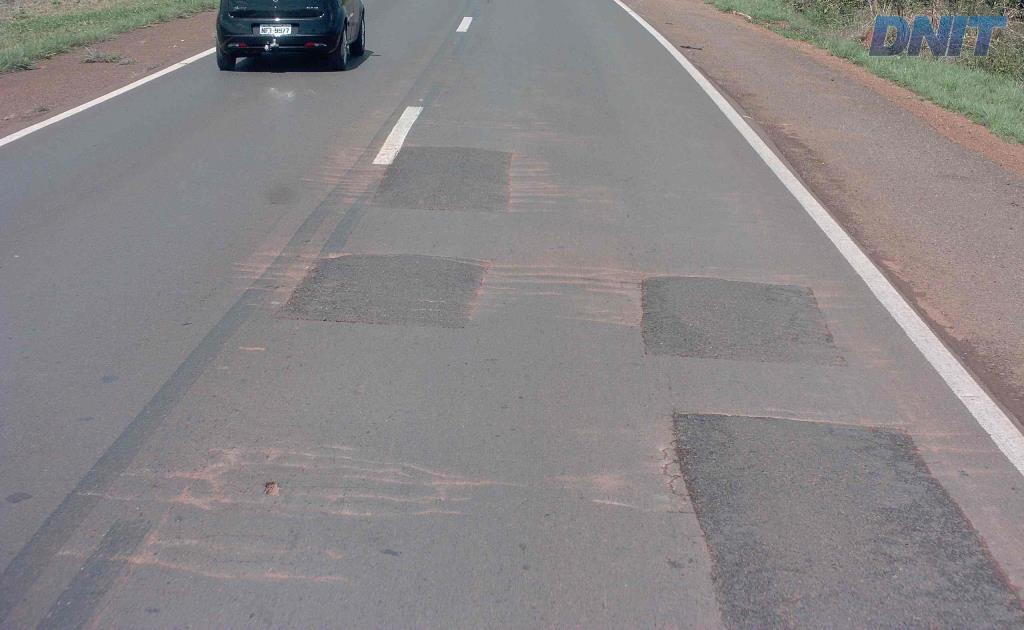pothole: (252, 474, 285, 500)
